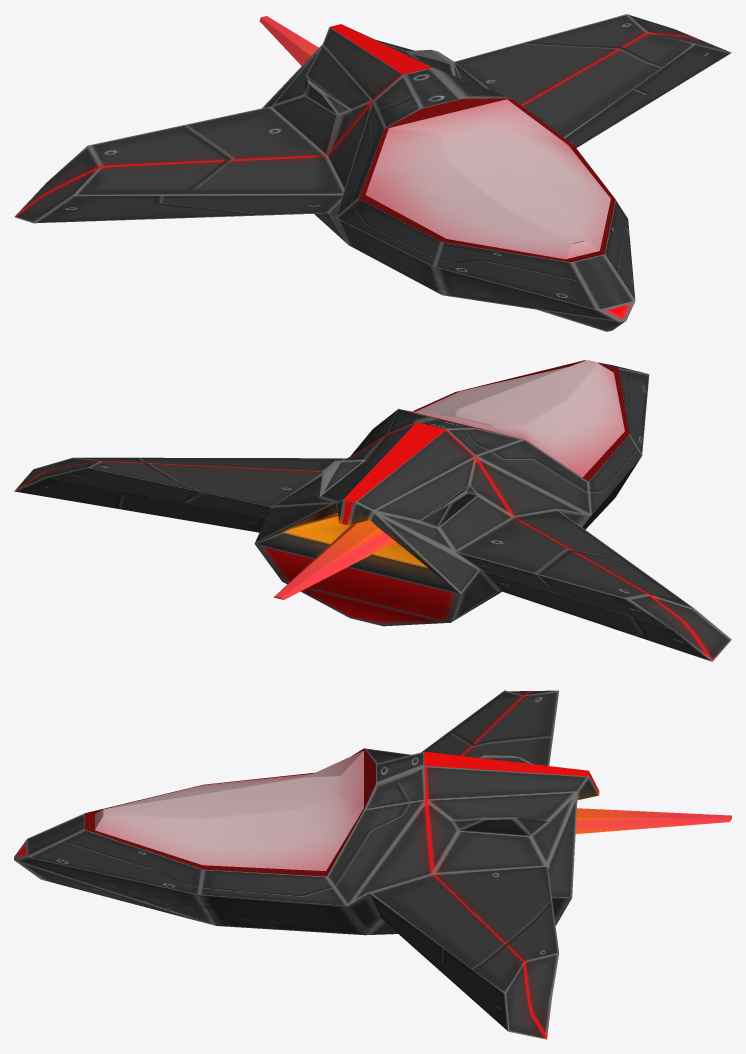
File: ship_enemy.fbx
The picture shows the model from 3 angles, top to bottom: view 1: azimuth 30°, elevation 25°; view 2: azimuth 150°, elevation 25°; view 3: azimuth 270°, elevation 25°; orthographic projection.
Parts seen in each view (by area): view 1: pCube1; view 2: pCube1; view 3: pCube1.
Boxes of the visible parts, x1,y1,x2,y2 form: pCube1: (14, 14, 731, 331); pCube1: (14, 360, 731, 661); pCube1: (14, 690, 731, 1039).
Bounding box in the file's own units: 18.43 × 3.74 × 16.43.
Materials: 1 (1 with a texture image).
